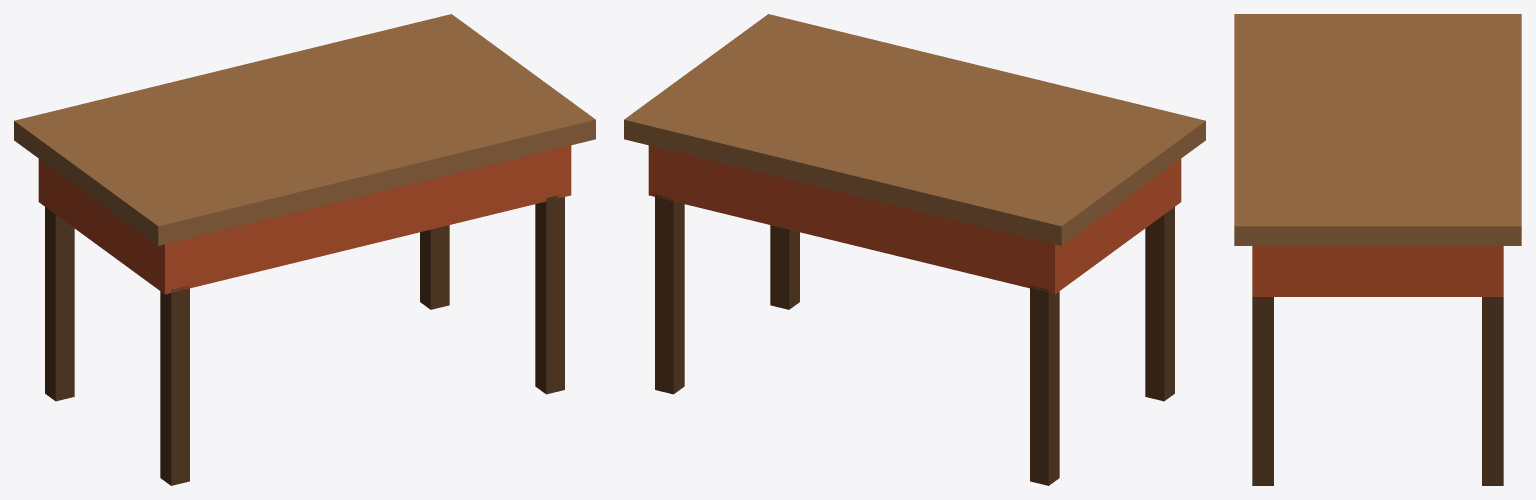
File: table.glb
3 renders of one model, left to right at view 1: azimuth 30°, elevation 25°; view 2: azimuth 150°, elevation 25°; view 3: azimuth 270°, elevation 25°, orthographic.
Visible parts, largest first — view 1: Top, Skirt, Leg, Leg.002, Leg.001, Leg.003; view 2: Top, Skirt, Leg.001, Leg.003, Leg, Leg.002; view 3: Top, Skirt, Leg.002, Leg.003.
Part boxes in pixels (x1,y1,x2,y2): Top: (14,14,595,245); Skirt: (38,145,571,294); Leg: (160,285,189,485); Leg.002: (535,194,564,394); Leg.001: (45,207,74,401); Leg.003: (420,225,449,309); Top: (624,14,1205,245); Skirt: (648,145,1181,294); Leg.001: (1030,285,1059,485); Leg.003: (655,193,684,394); Leg: (1145,207,1174,401); Leg.002: (770,225,799,309); Top: (1234,14,1521,245); Skirt: (1252,246,1503,296); Leg.002: (1252,297,1273,485); Leg.003: (1482,297,1503,485).
Bounding box in the file's own units: 1.4 × 0.83 × 0.8.
